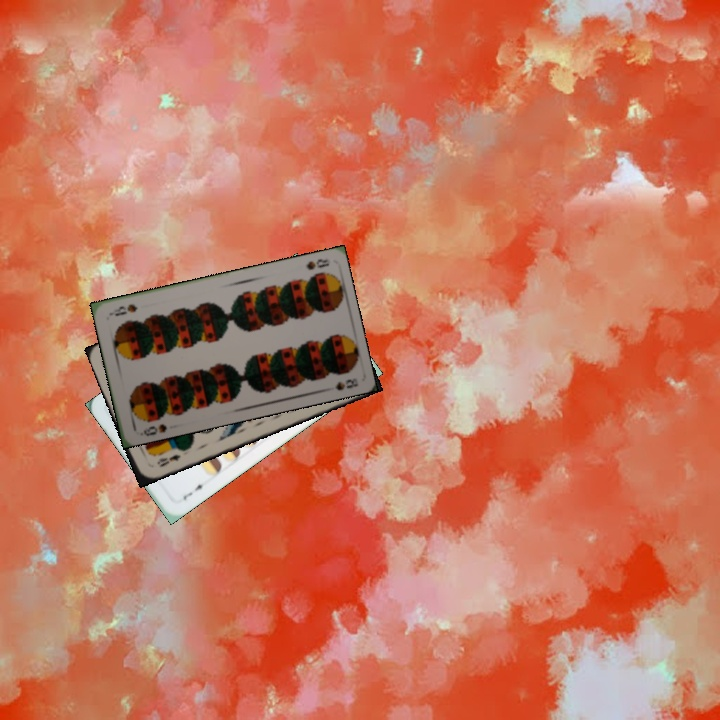E7: (179, 479, 209, 502)
EO: (153, 450, 183, 469)
S8: (136, 420, 169, 438), (302, 255, 332, 272)
